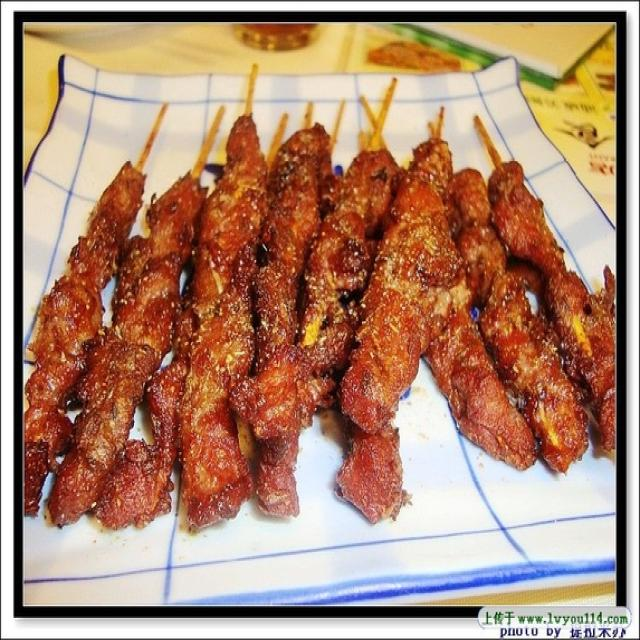烧串烤肉: (31, 42, 601, 594)
